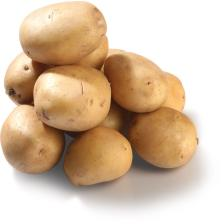Potato: (0, 27, 109, 105), (17, 1, 107, 65), (31, 65, 113, 131), (0, 103, 66, 175), (128, 106, 198, 170), (62, 126, 132, 188), (103, 53, 169, 113), (119, 71, 186, 123), (1, 48, 53, 105)
